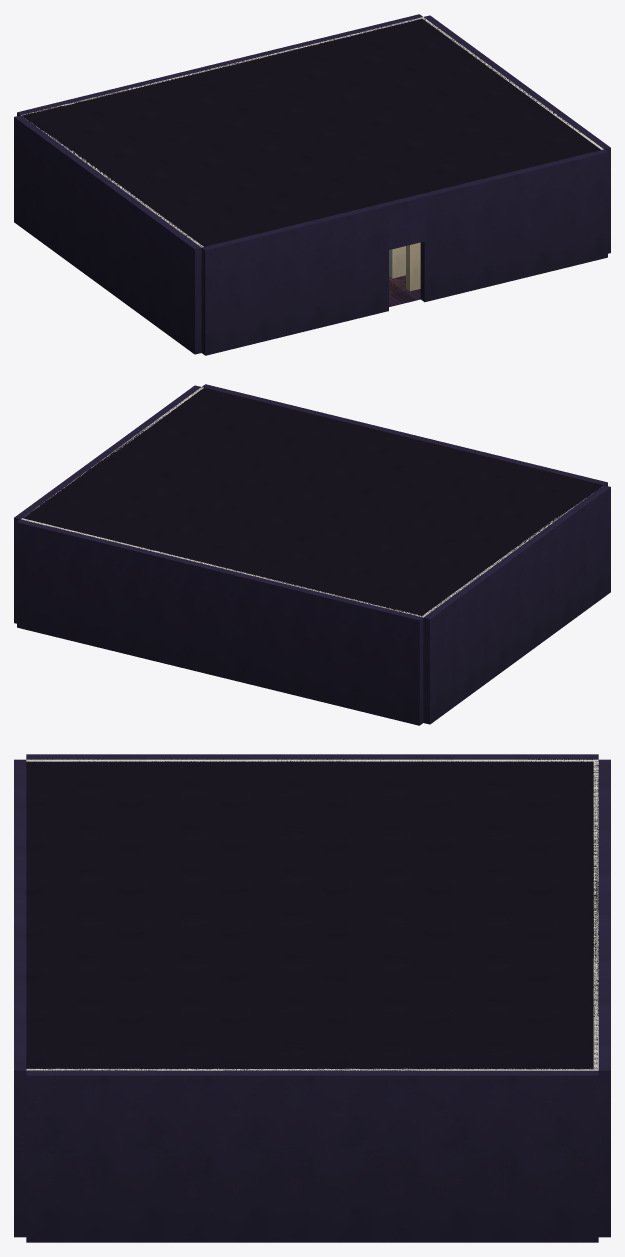
The model's file is rooms.glb.
3 views of the same model, one above another, from view 1: azimuth 30°, elevation 25°; view 2: azimuth 150°, elevation 25°; view 3: azimuth 270°, elevation 25° (orthographic). The views are drawn at different scales.
Visible parts, largest first — view 1: room_cubamia, room_osteria; view 2: room_cubamia; view 3: room_cubamia.
Part boxes in pixels (bbox=[...]): room_cubamia: bbox=[14, 14, 610, 355]; room_osteria: bbox=[389, 242, 420, 294]; room_cubamia: bbox=[14, 384, 610, 725]; room_cubamia: bbox=[14, 754, 610, 1242].
Bounding box in the file's own units: 18.6 × 4.51 × 14.6.
Materials: 9 (5 with a texture image).
